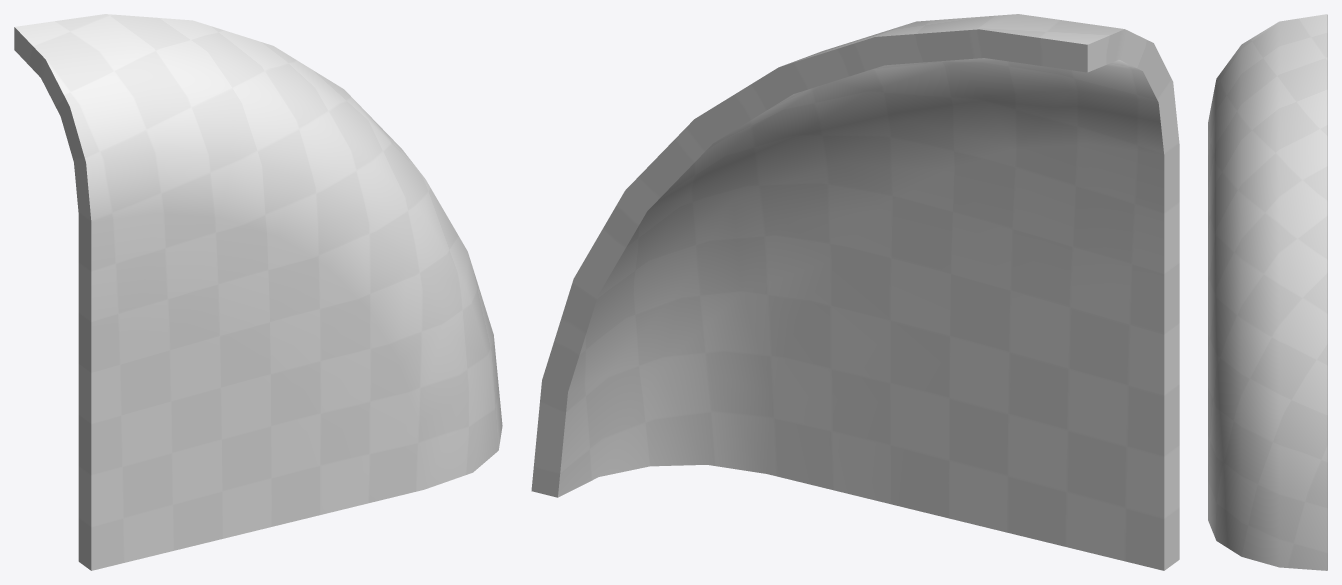
The model's file is enginehall_end_topleft_round.fbx.
The picture shows the model from 3 angles, left to right: view 1: azimuth 30°, elevation 25°; view 2: azimuth 150°, elevation 25°; view 3: azimuth 270°, elevation 25°; orthographic projection. The views are drawn at different scales.
Visible parts, largest first — view 1: enginehall_end_topleft_round; view 2: enginehall_end_topleft_round; view 3: enginehall_end_topleft_round.
Boxes of the visible parts, x1,y1,x2,y2 form: enginehall_end_topleft_round: [14, 14, 502, 570]; enginehall_end_topleft_round: [531, 14, 1179, 570]; enginehall_end_topleft_round: [1208, 14, 1327, 570].
Bounding box in the file's own units: 420 × 420 × 120.
